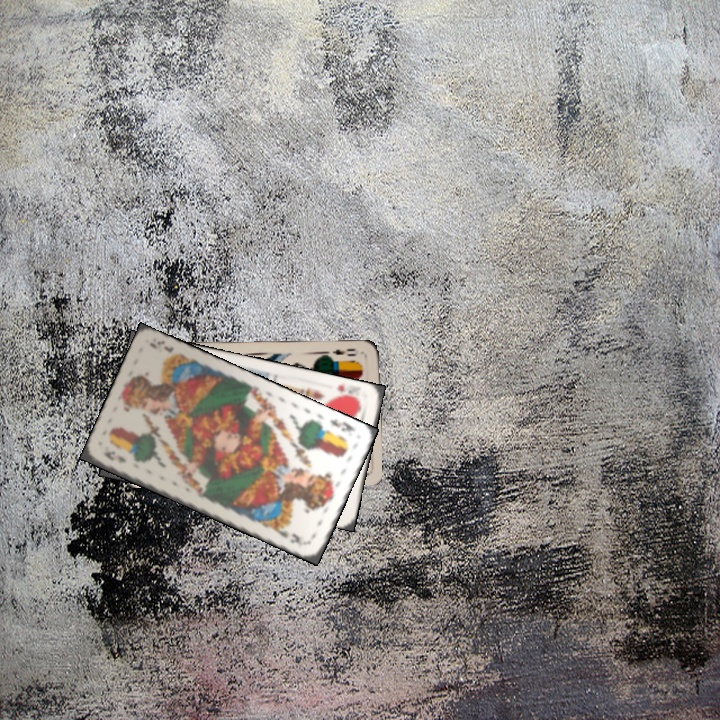EK: (326, 415, 358, 434), (100, 447, 129, 465)
EO: (329, 344, 361, 359)
HK: (333, 380, 363, 404)
